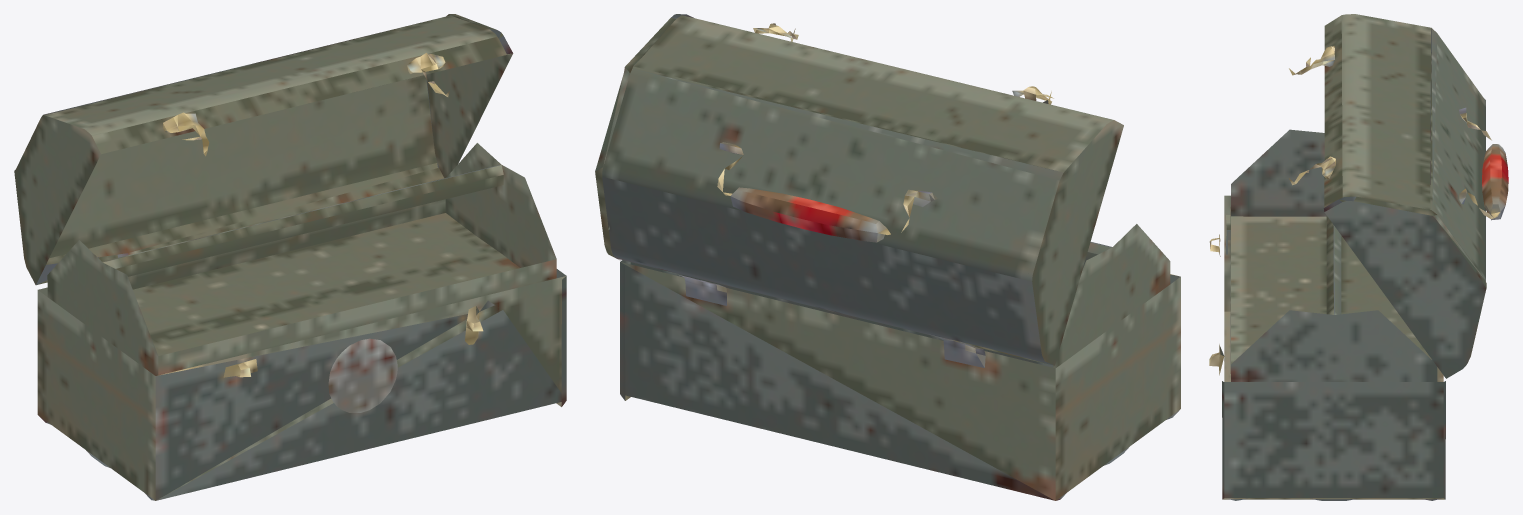
The model's file is metal_toolbox.glb.
3 renders of one model, left to right at view 1: azimuth 30°, elevation 25°; view 2: azimuth 150°, elevation 25°; view 3: azimuth 270°, elevation 25°, orthographic. The views are drawn at different scales.
Visible parts, largest first — view 1: mesh; view 2: mesh; view 3: mesh.
Part boxes in pixels (bbox=[...]): mesh: bbox=[14, 14, 566, 500]; mesh: bbox=[595, 14, 1180, 500]; mesh: bbox=[1209, 14, 1508, 500].
Bounding box in the file's own units: 0.4559 × 0.3471 × 0.307.
1 material, 1 textured.
